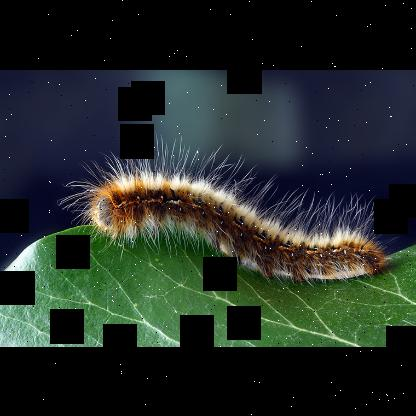oruga: (59, 149, 402, 285)
